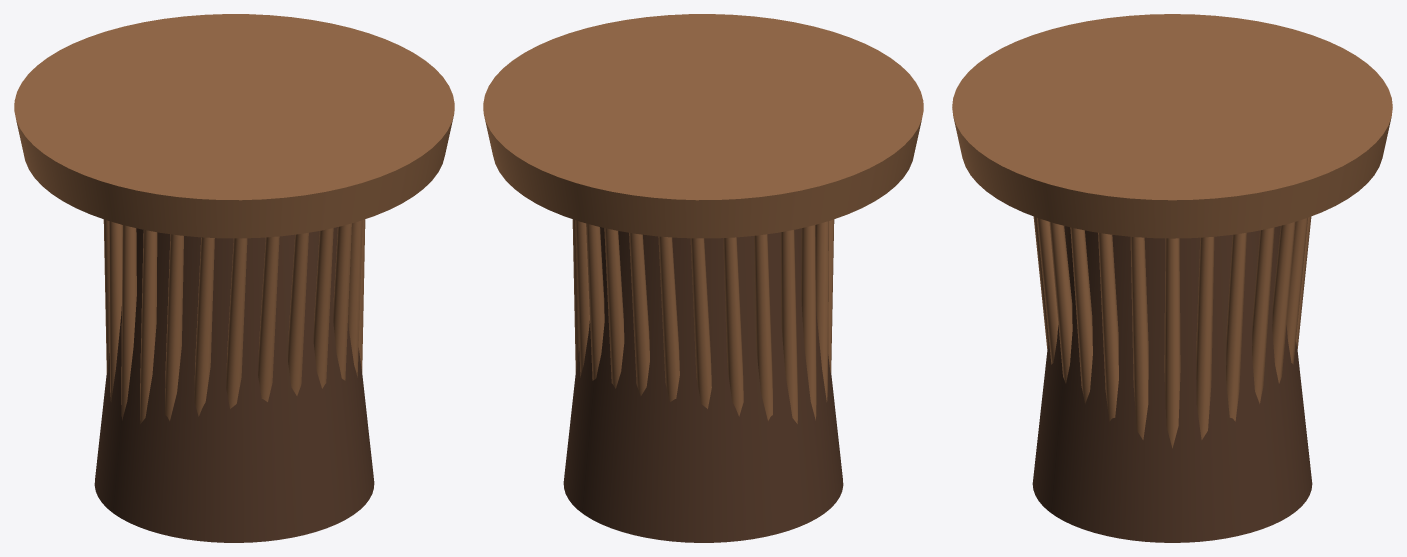
File: ada-side-table.v1.render.glb
The picture shows the model from 3 angles, left to right: view 1: azimuth 30°, elevation 25°; view 2: azimuth 150°, elevation 25°; view 3: azimuth 270°, elevation 25°; orthographic projection.
Size of the model in its own units: 0.52 by 0.4905 by 0.52.
